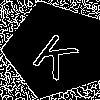K: (30, 25, 86, 81)
